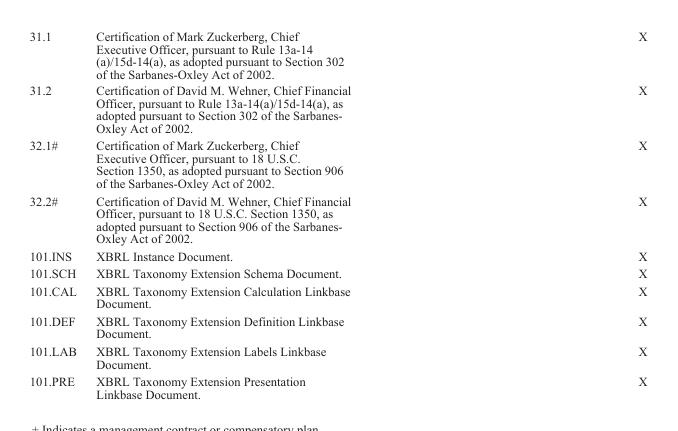table: (28, 29, 646, 400)
table column: (85, 29, 493, 400), (493, 29, 646, 400), (28, 29, 85, 400)
table column header: (28, 29, 646, 81)
table row: (28, 81, 646, 136), (28, 136, 646, 191), (28, 191, 646, 246), (28, 29, 646, 81), (28, 311, 646, 342), (28, 281, 646, 311), (28, 342, 646, 372), (28, 372, 646, 400), (28, 246, 646, 264), (28, 264, 646, 281)
